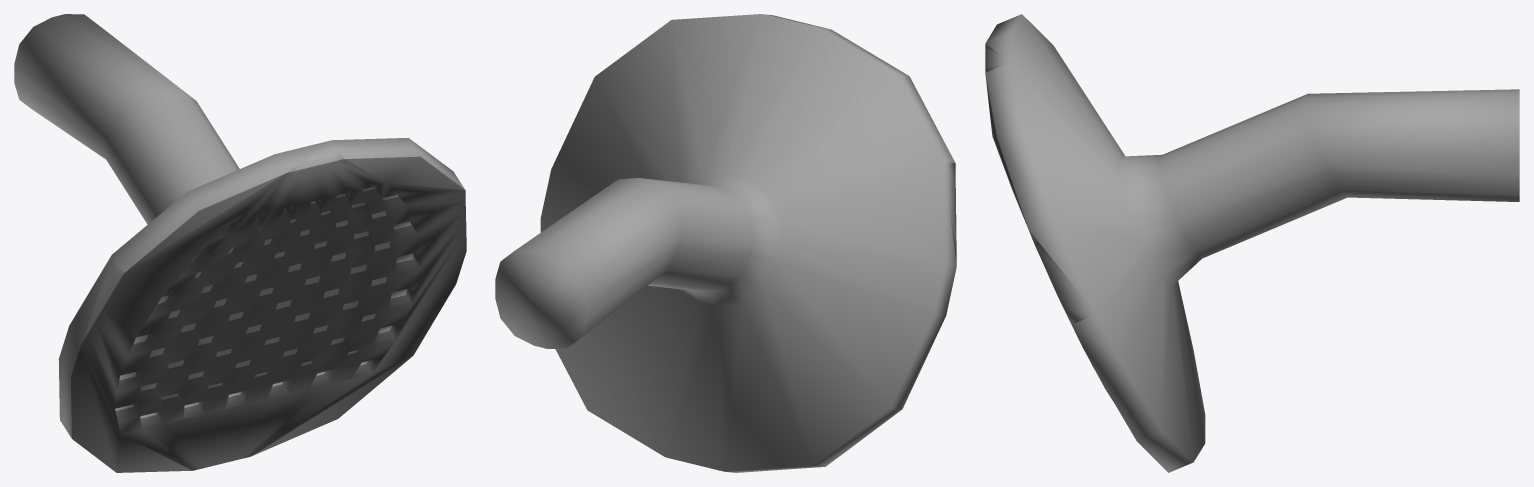
The model's file is Shower.fbx.
3 renders of one model, left to right at view 1: azimuth 30°, elevation 25°; view 2: azimuth 150°, elevation 25°; view 3: azimuth 270°, elevation 25°, orthographic. The views are drawn at different scales.
Parts seen in each view (by area): view 1: Keran; view 2: Keran; view 3: Keran.
Part boxes in pixels (x1=…): Keran: x1=14, y1=14, x2=466, y2=472; Keran: x1=495, y1=14, x2=956, y2=472; Keran: x1=985, y1=14, x2=1519, y2=472.
Size of the model in its own units: 57.54 by 53.65 by 66.3.
